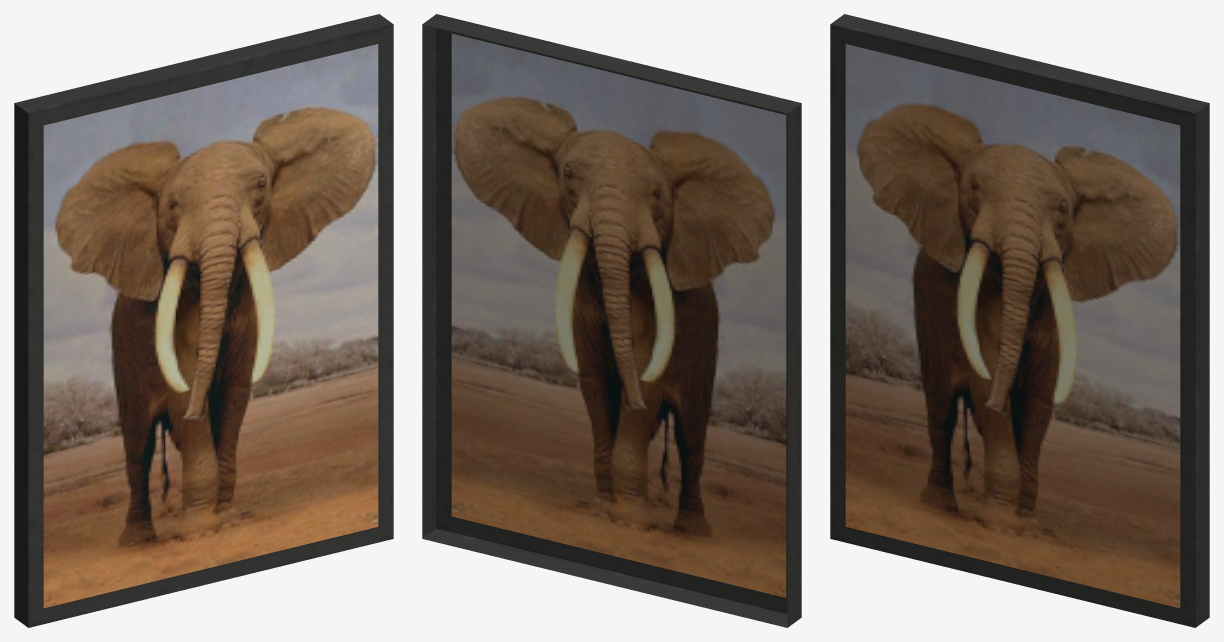
File: paint_5.fbx
3 views of the same model, side by side, from view 1: azimuth 30°, elevation 25°; view 2: azimuth 150°, elevation 25°; view 3: azimuth 330°, elevation 25° (orthographic).
Visible parts, largest first — view 1: pCube5; view 2: pCube5; view 3: pCube5.
Boxes of the visible parts, bbox=[...] form: pCube5: bbox=[14, 14, 393, 627]; pCube5: bbox=[422, 14, 801, 627]; pCube5: bbox=[830, 14, 1209, 627].
Size of the model in its own units: 73.57 by 99.09 by 4.93.
